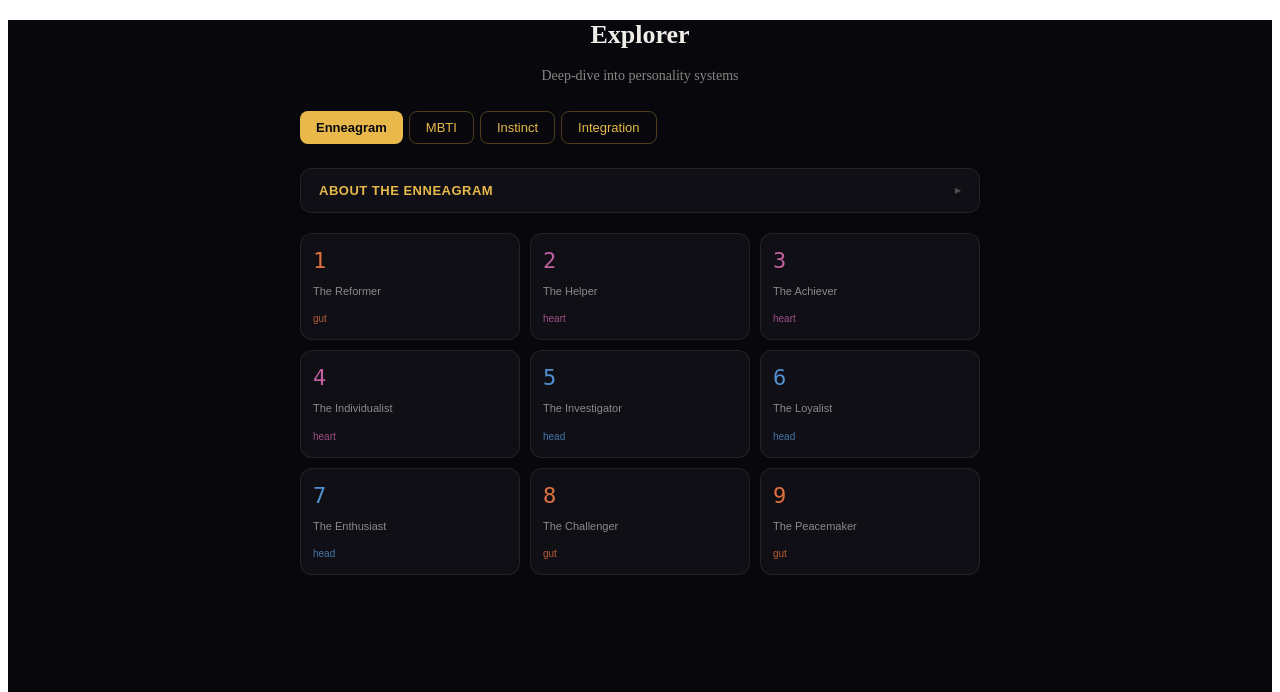
Test: Explorer — collapsible intros › starts with the tab intro collapsed and expands it on click
The image size is (1280, 692).
Check: the text "The Enneagram describes nine distinct personality structures" is not shown
Click the text "About the Enneagram" at point(406, 191), box x1=319 y1=183 x2=493 y2=198
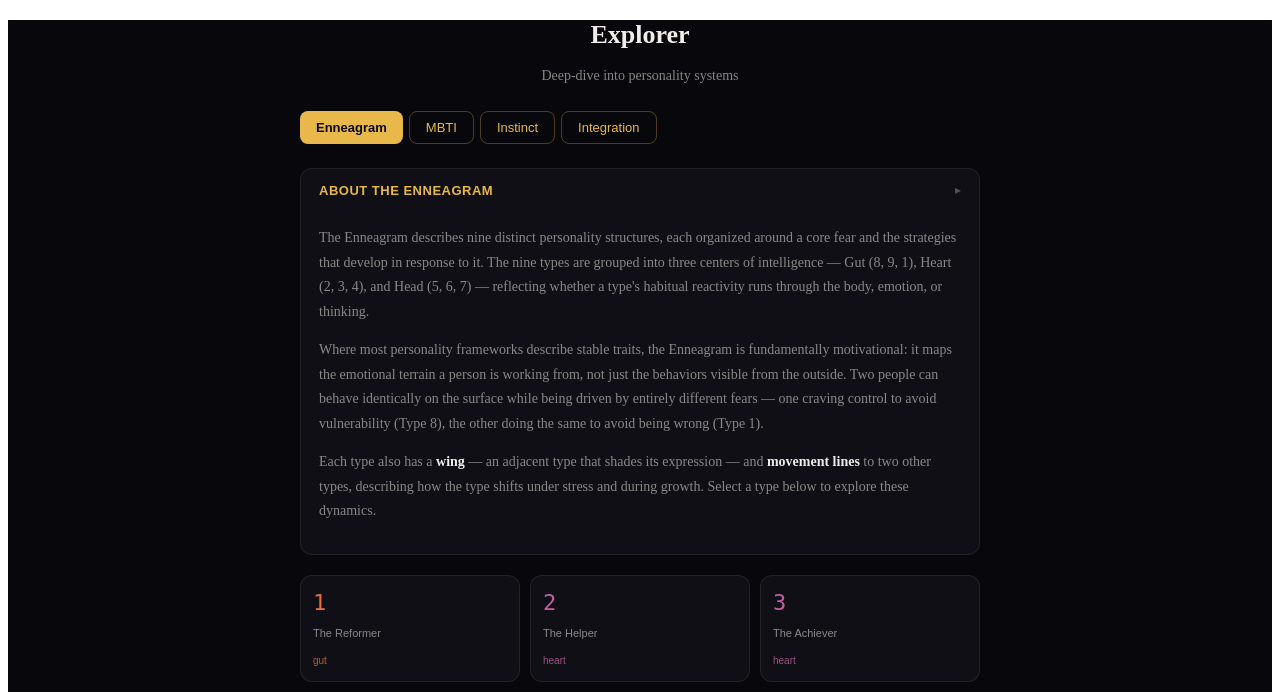
Check: the text "The Enneagram describes nine distinct personality structures" is shown, box x1=319 y1=230 x2=956 y2=319
